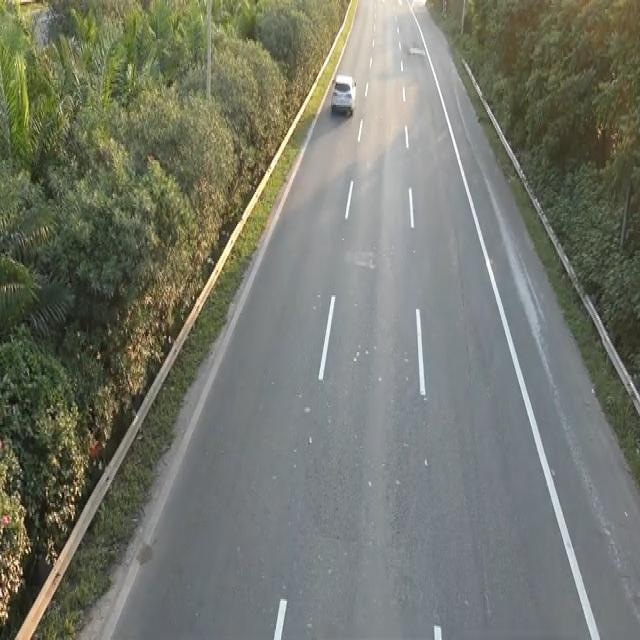car: (329, 71, 357, 117)
